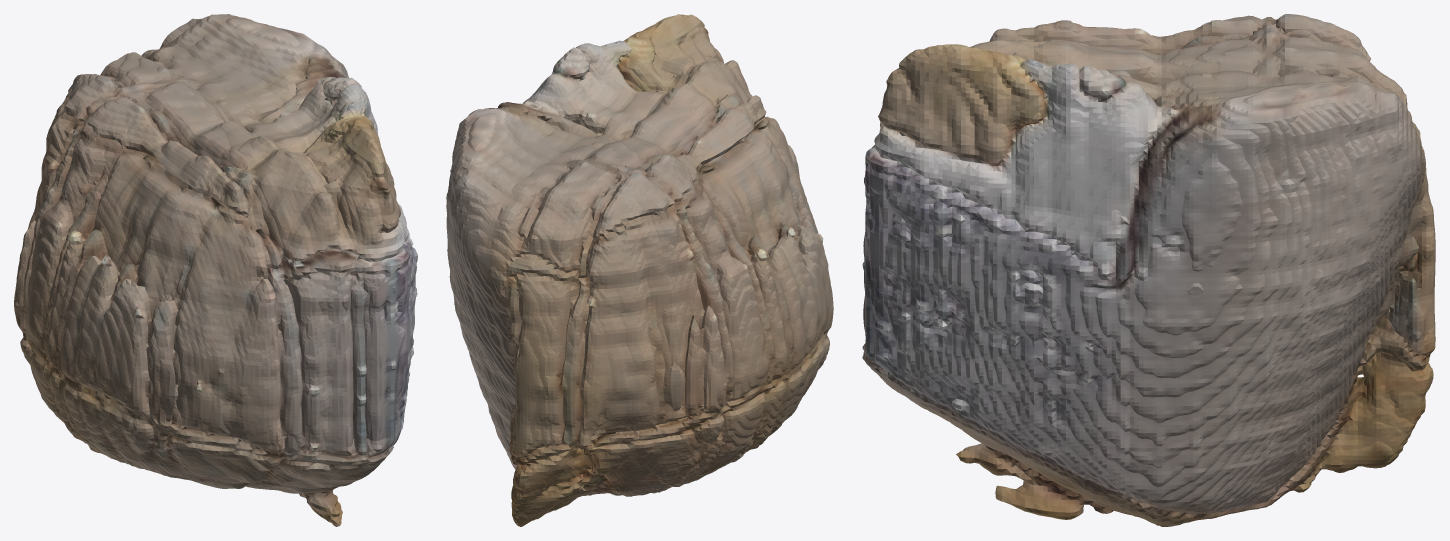
3 renders of one model, left to right at view 1: azimuth 30°, elevation 25°; view 2: azimuth 150°, elevation 25°; view 3: azimuth 270°, elevation 25°, orthographic. The views are drawn at different scales.
Parts seen in each view (by area): view 1: world; view 2: world; view 3: world.
Boxes of the visible parts, x1=… form: world: x1=14, y1=14, x2=417, y2=526; world: x1=446, y1=14, x2=833, y2=526; world: x1=862, y1=14, x2=1435, y2=526.
Size of the model in its own units: 0.6213 by 0.7768 by 0.8573.
